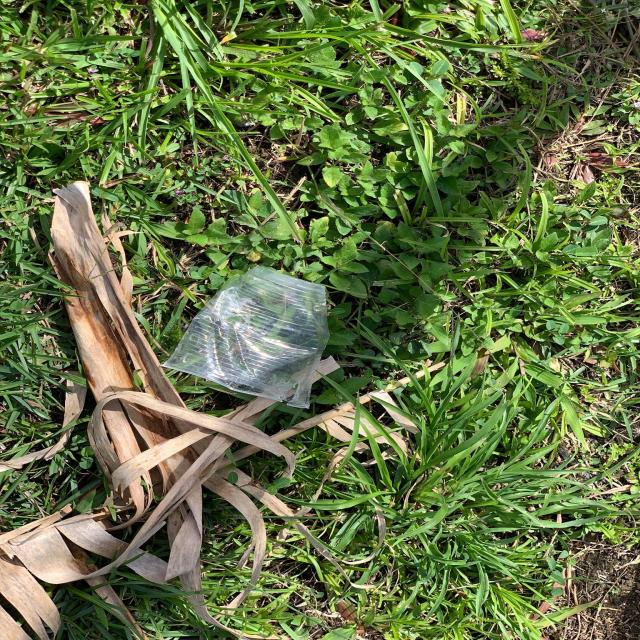litter: (162, 266, 328, 406)
